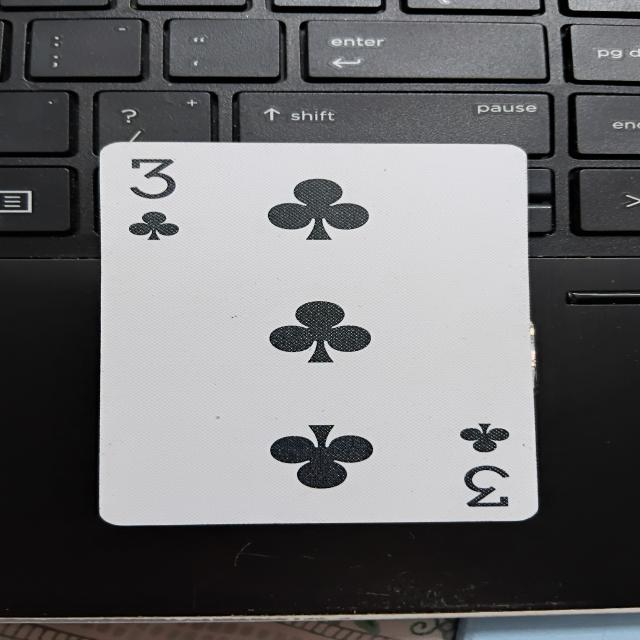3C: (89, 138, 546, 530)
